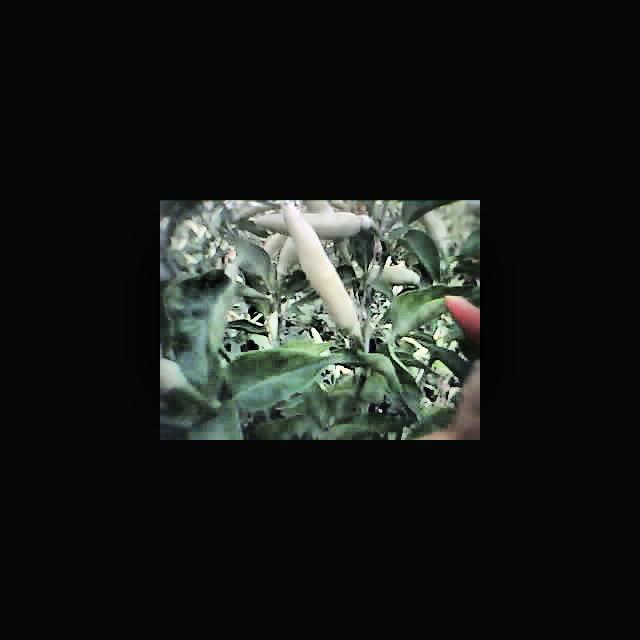Cabai: (440, 293, 480, 346)
